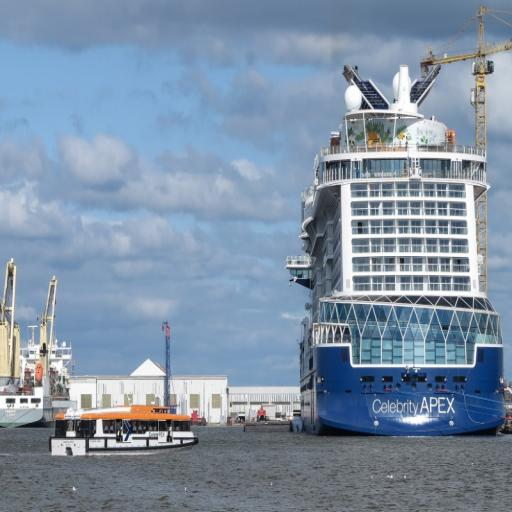cruises: (288, 63, 508, 439)
